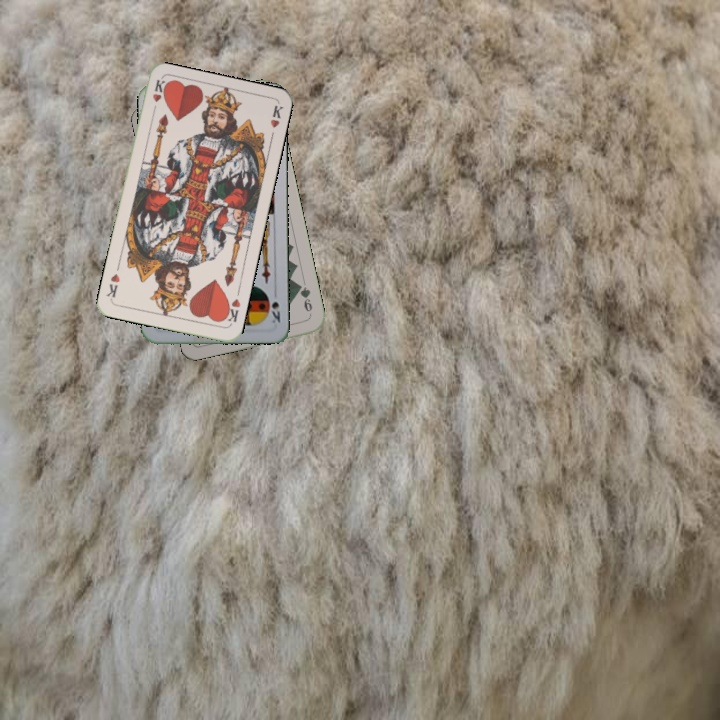G9: (294, 278, 315, 319)
HK: (148, 76, 168, 117), (220, 295, 243, 327)
SK: (267, 297, 283, 326)
